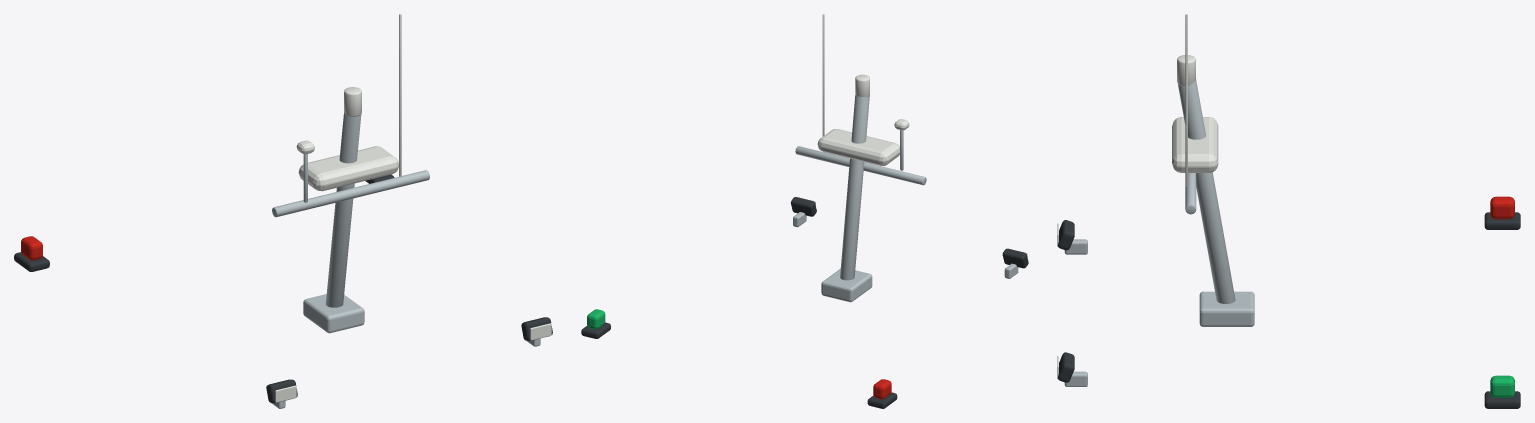
Rendered from coastal_mast_lights.glb.
The picture shows the model from 3 angles, left to right: view 1: azimuth 30°, elevation 25°; view 2: azimuth 150°, elevation 25°; view 3: azimuth 270°, elevation 25°; orthographic projection. The views are drawn at different scales.
Parts seen in each view (by area): view 1: Raked signal mast, Marine radar radome, Radar crossbar, Mast foot, Masthead light body, VHF aerial; view 2: Raked signal mast, Marine radar radome, Mast foot, Radar crossbar; view 3: Raked signal mast, Marine radar radome, Mast foot, Navigation lamp lens, Navigation lamp lens.001, VHF aerial, Navigation lamp base, Navigation lamp base.001, Masthead light body, Radar crossbar, Aft LED worklight.001.
Boxes of the visible parts, left/top/right/bottom form: Raked signal mast: left=325, top=113, right=361, bottom=307; Marine radar radome: left=298, top=146, right=398, bottom=191; Radar crossbar: left=272, top=170, right=429, bottom=217; Mast foot: left=303, top=294, right=364, bottom=333; Masthead light body: left=344, top=87, right=361, bottom=116; VHF aerial: left=399, top=14, right=401, bottom=176; Raked signal mast: left=840, top=95, right=869, bottom=280; Marine radar radome: left=817, top=129, right=899, bottom=165; Mast foot: left=821, top=268, right=872, bottom=302; Radar crossbar: left=795, top=146, right=926, bottom=185; Raked signal mast: left=1178, top=79, right=1235, bottom=303; Marine radar radome: left=1172, top=117, right=1218, bottom=172; Mast foot: left=1199, top=291, right=1254, bottom=326; Navigation lamp lens: left=1490, top=196, right=1514, bottom=219; Navigation lamp lens.001: left=1490, top=375, right=1514, bottom=397; VHF aerial: left=1185, top=14, right=1187, bottom=186; Navigation lamp base: left=1484, top=212, right=1520, bottom=229; Navigation lamp base.001: left=1484, top=391, right=1520, bottom=408; Masthead light body: left=1177, top=55, right=1195, bottom=85; Radar crossbar: left=1185, top=173, right=1196, bottom=214; Aft LED worklight.001: left=1058, top=352, right=1074, bottom=382.
Bounding box in the file's own units: 3.1 × 2.51 × 3.2.
